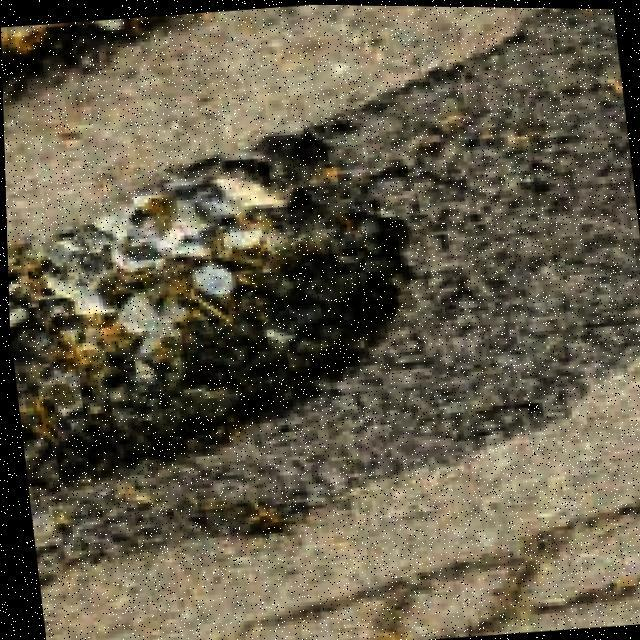pothole: (2, 102, 449, 519)
